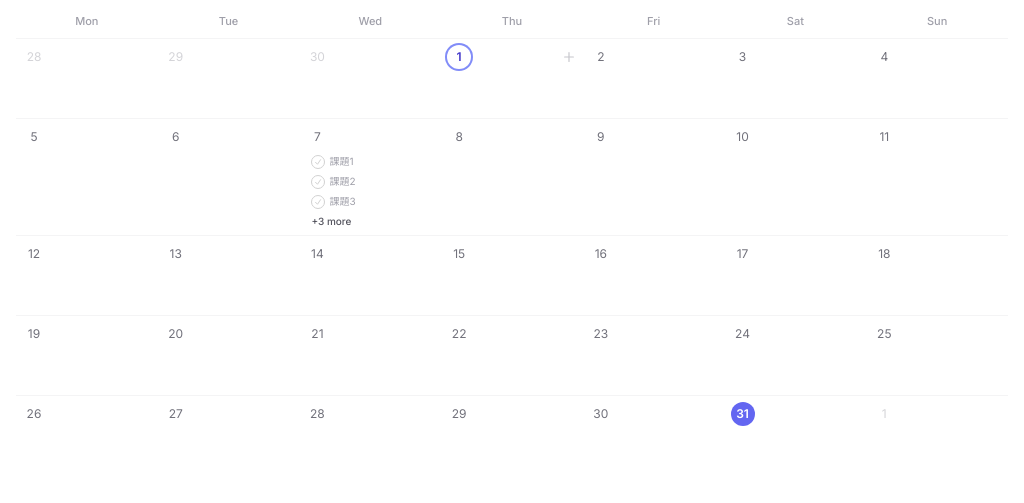
CalendarView（月）: 表示ごとの見せ方をそろえる（#641） › 「他 N 件」を押すとマスを広げて全部出し、「たたむ」で戻す
The width and height of the screenshot is (1024, 503).
Expected: the text "課題6" is not shown
Click the button "+3 more" at (370, 221), box [305, 212, 435, 229]
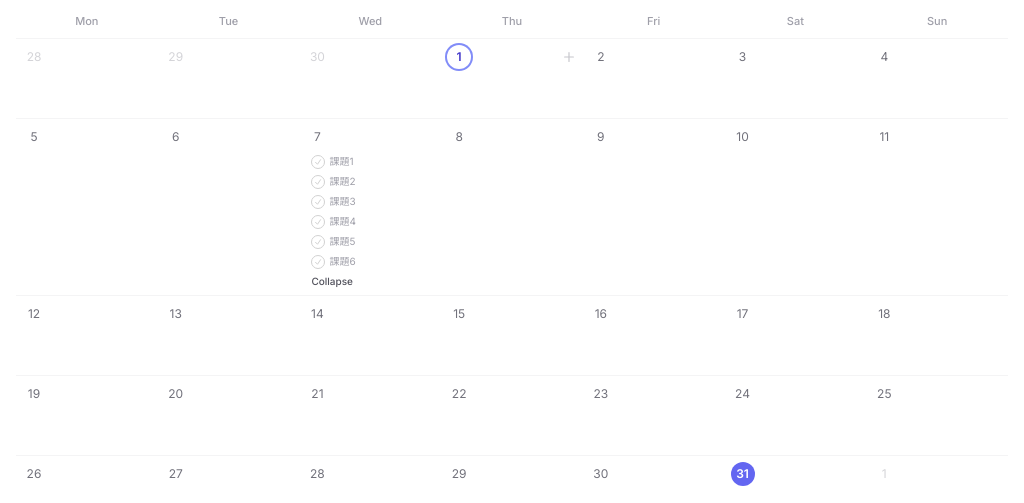
Now the text "課題6" is shown, box [329, 255, 356, 268]
Click the button "Collapse" at (370, 281), box [305, 272, 435, 289]
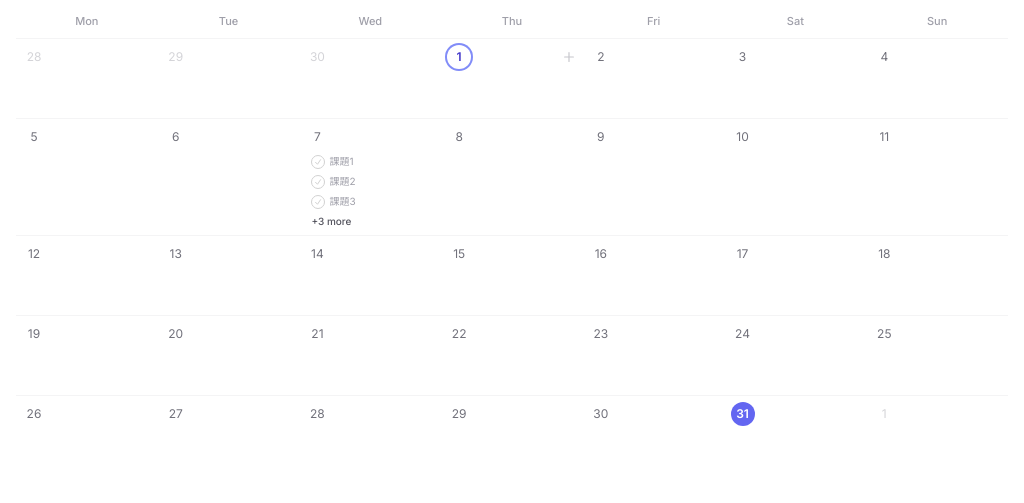
Now the text "課題6" is gone
